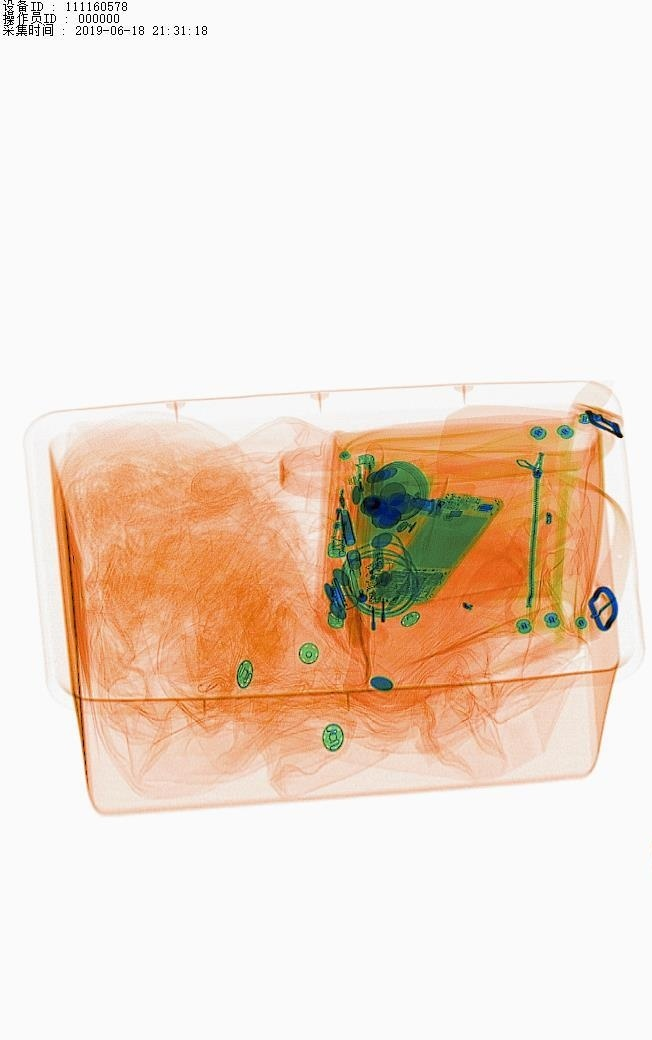NonmetallicFire: (311, 555, 359, 637), (337, 442, 383, 525), (324, 488, 357, 564)
